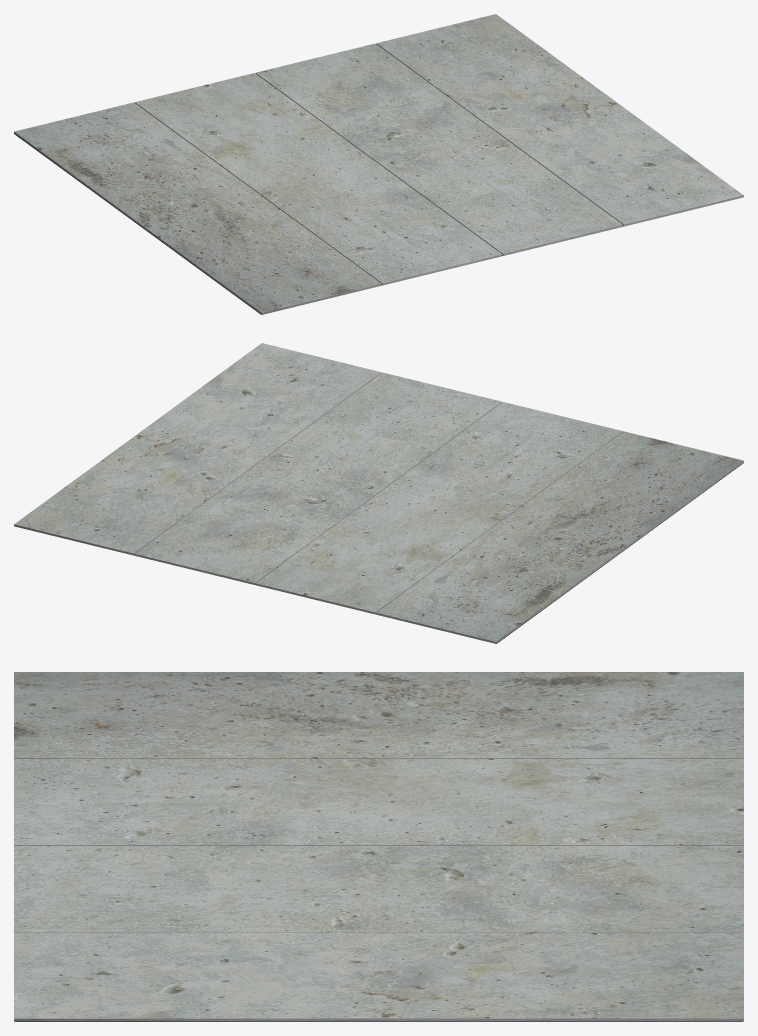
The model's file is wall fbx wall wall.FBX.
The picture shows the model from 3 angles, top to bottom: view 1: azimuth 30°, elevation 25°; view 2: azimuth 150°, elevation 25°; view 3: azimuth 270°, elevation 25°; orthographic projection. The views are drawn at different scales.
Parts seen in each view (by area): view 1: Plane001; view 2: Plane001; view 3: Plane001.
Boxes of the visible parts, bbox=[...] form: Plane001: bbox=[14, 14, 743, 314]; Plane001: bbox=[14, 343, 743, 643]; Plane001: bbox=[14, 672, 743, 1021].
Size of the model in its own units: 159 by 0.6279 by 141.
